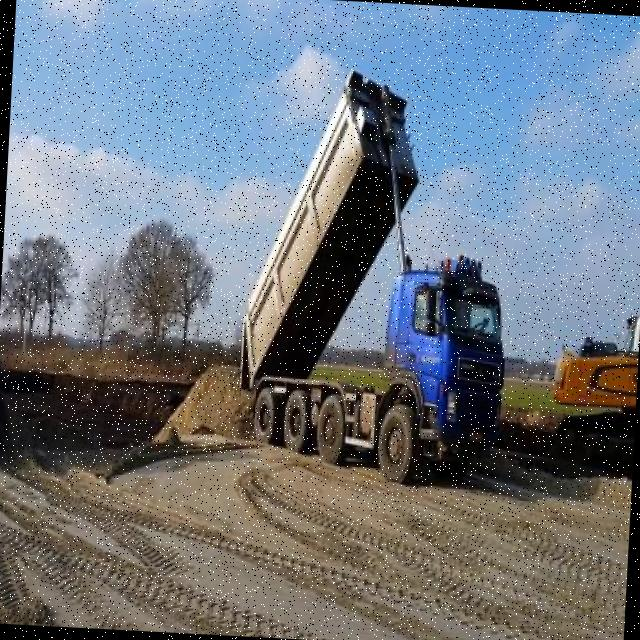Dump Truck: (233, 63, 520, 490)
Excavator: (549, 293, 640, 462)
